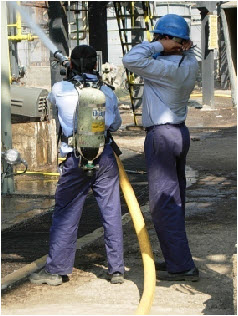Hard Hat: (147, 14, 191, 40)
